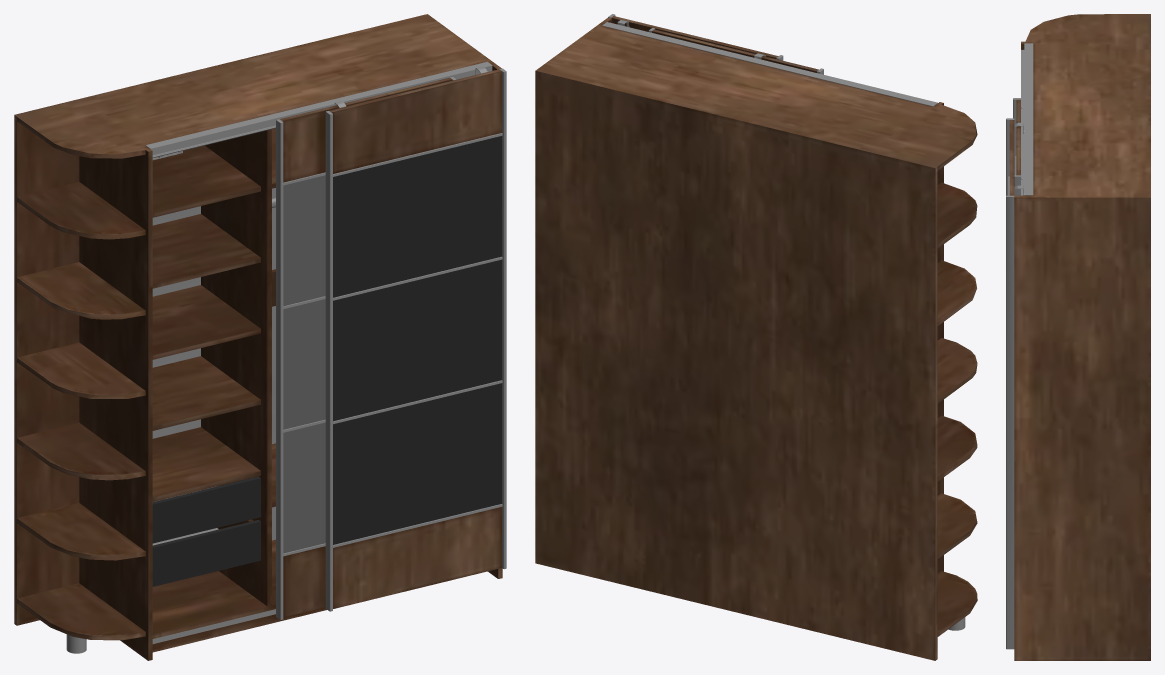
Rendered from wardrobe_wood.glb.
3 views of the same model, side by side, from view 1: azimuth 30°, elevation 25°; view 2: azimuth 150°, elevation 25°; view 3: azimuth 270°, elevation 25° (orthographic). The views are drawn at different scales.
Visible parts, largest first — view 1: Wardrobe_Wardrobe Wood_Material_0, WardrobeDoor1_Wardrobe Black Plastic_Material_0, Wardrobe_Wardrobe Metal_Material_0, WardrobeDoor1_Wardrobe Mirror_Material_0, Wardrobe_Wardrobe White Plastic_Material_0; view 2: Wardrobe_Wardrobe Wood_Material_0, Wardrobe_Wardrobe Metal_Material_0; view 3: Wardrobe_Wardrobe Wood_Material_0, Wardrobe_Wardrobe Metal_Material_0.
Boxes of the visible parts, box(x1,y1,x2,y2) form: Wardrobe_Wardrobe Wood_Material_0: box(14, 14, 502, 660); WardrobeDoor1_Wardrobe Black Plastic_Material_0: box(152, 136, 501, 586); Wardrobe_Wardrobe Metal_Material_0: box(66, 61, 506, 653); WardrobeDoor1_Wardrobe Mirror_Material_0: box(283, 175, 325, 553); Wardrobe_Wardrobe White Plastic_Material_0: box(152, 151, 275, 545); Wardrobe_Wardrobe Wood_Material_0: box(535, 16, 977, 660); Wardrobe_Wardrobe Metal_Material_0: box(602, 14, 965, 630); Wardrobe_Wardrobe Wood_Material_0: box(1009, 14, 1150, 660); Wardrobe_Wardrobe Metal_Material_0: box(1006, 43, 1033, 649).
Size of the model in its own units: 1.89 by 2.23 by 0.6283.
5 materials, 3 textured.
